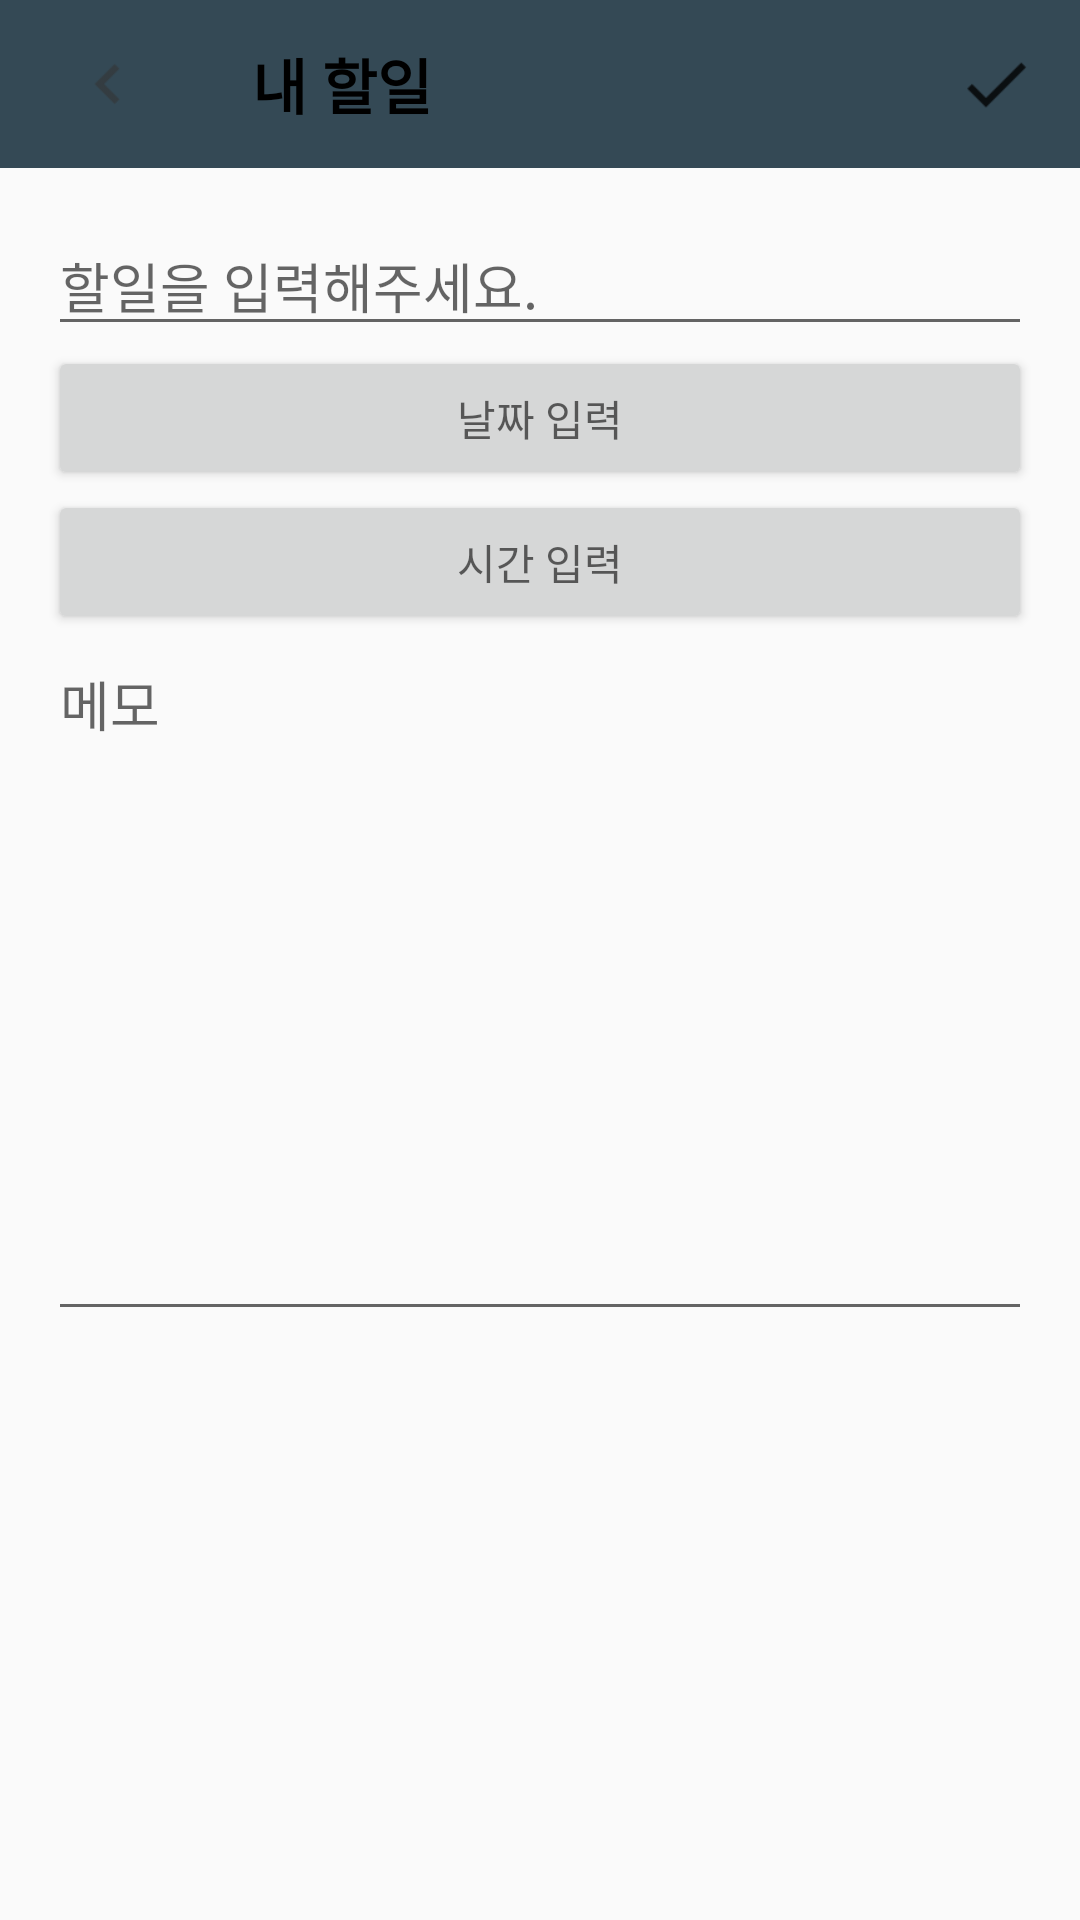

Locate icon controls on the screen. Image size 1080w x 1920h, boxes as (x1, y1, x2, y2).
check: (967, 63, 1026, 107)
